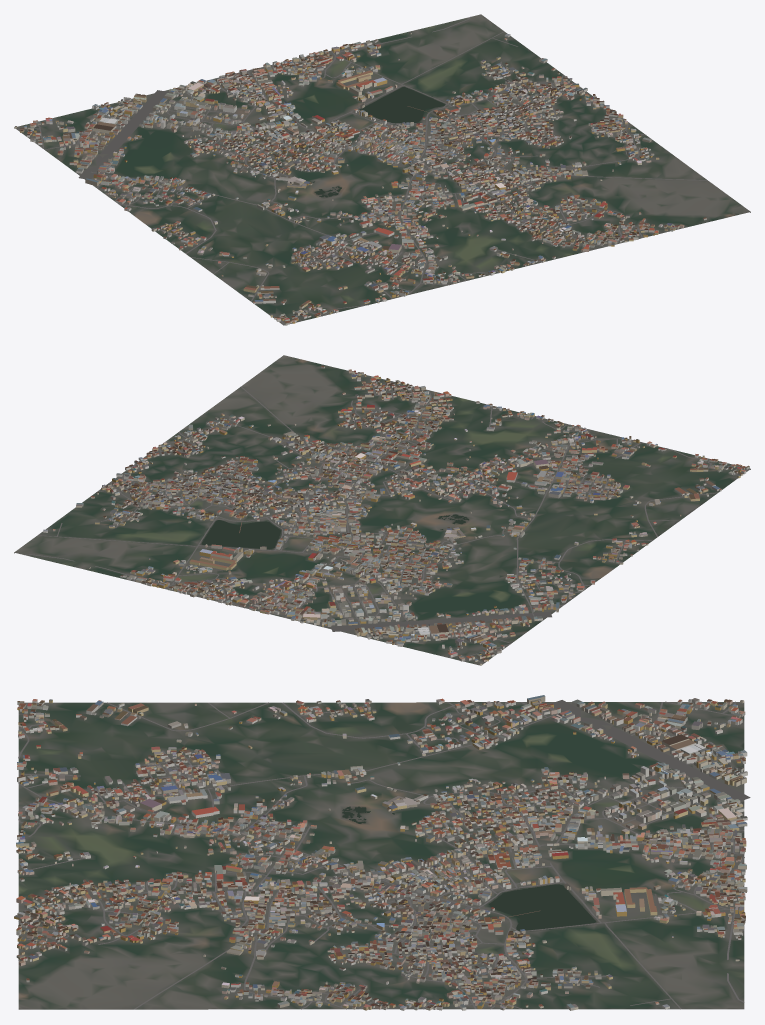
3 views of the same model, one above another, from view 1: azimuth 30°, elevation 25°; view 2: azimuth 150°, elevation 25°; view 3: azimuth 270°, elevation 25° (orthographic). The views are drawn at different scales.
Visible parts, largest first — view 1: ground, buildings, roads, water; view 2: ground, buildings, roads, water; view 3: ground, buildings, roads, water.
Boxes of the visible parts, box(x1,y1,x2,y2) form: ground: box(14, 14, 750, 325); buildings: box(14, 32, 706, 325); roads: box(17, 16, 707, 325); water: box(313, 87, 445, 197); ground: box(14, 355, 750, 665); buildings: box(43, 365, 749, 665); roads: box(24, 375, 750, 663); water: box(201, 514, 469, 549); ground: box(18, 702, 744, 1009); buildings: box(14, 695, 747, 1010); roads: box(18, 700, 750, 1009); water: box(342, 806, 596, 930).
Size of the model in its own units: 1417 by 22.09 by 1424.
